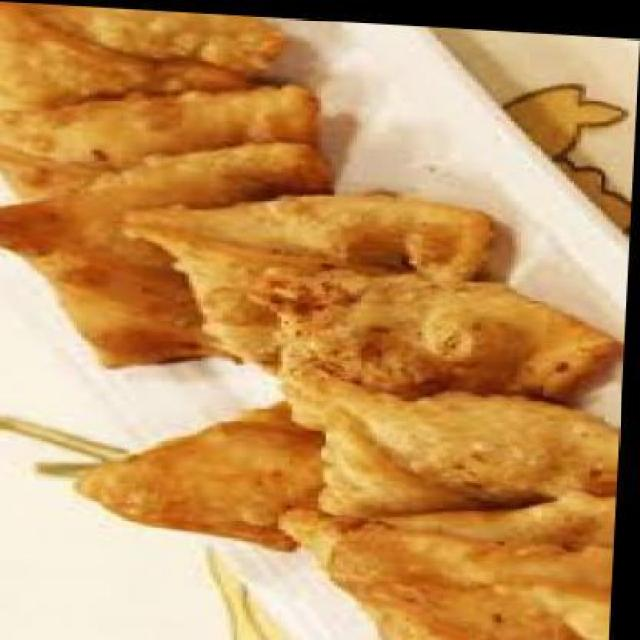samosa: (0, 126, 338, 375), (118, 177, 500, 380), (248, 260, 629, 440), (278, 469, 622, 640), (277, 369, 626, 523), (0, 68, 322, 214), (75, 386, 334, 549), (0, 2, 291, 122)
